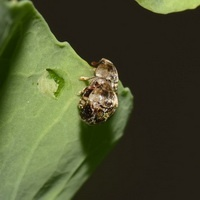insect: (78, 58, 118, 124)
